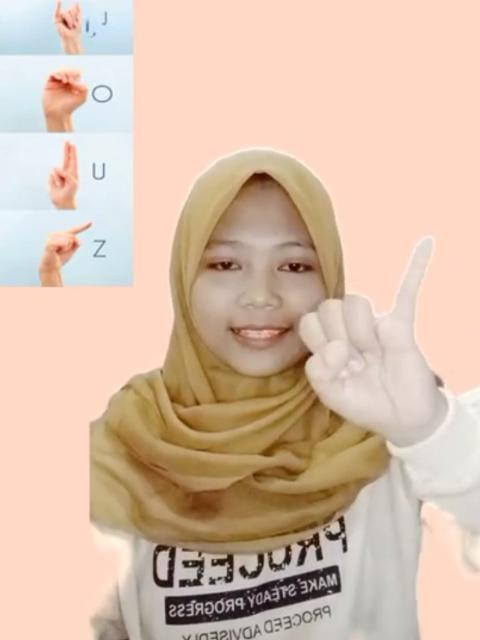I: (294, 237, 446, 437)
